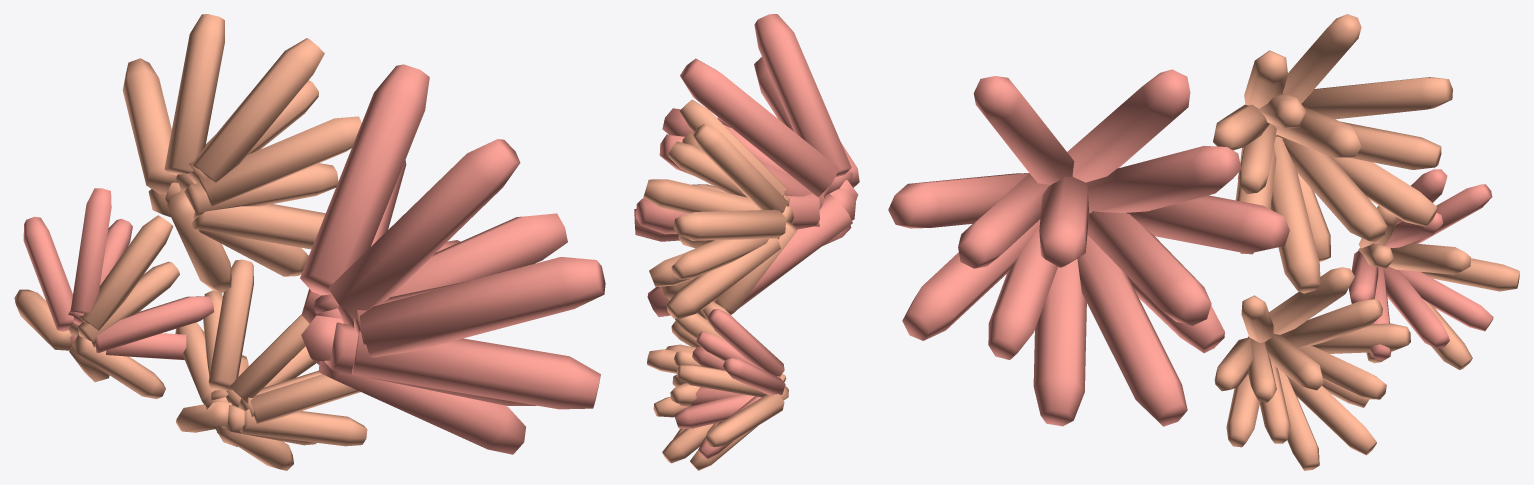
Rendered from coral#0003.fbx.
The picture shows the model from 3 angles, left to right: view 1: azimuth 30°, elevation 25°; view 2: azimuth 150°, elevation 25°; view 3: azimuth 270°, elevation 25°; orthographic projection. The views are drawn at different scales.
Visible parts, largest first — view 1: coral 4; view 2: coral 4; view 3: coral 4.
Part boxes in pixels (x1,y1,x2,y2): coral 4: (14,14,605,470); coral 4: (634,14,859,470); coral 4: (888,14,1519,470).
Size of the model in its own units: 22.37 by 29.16 by 38.69.
